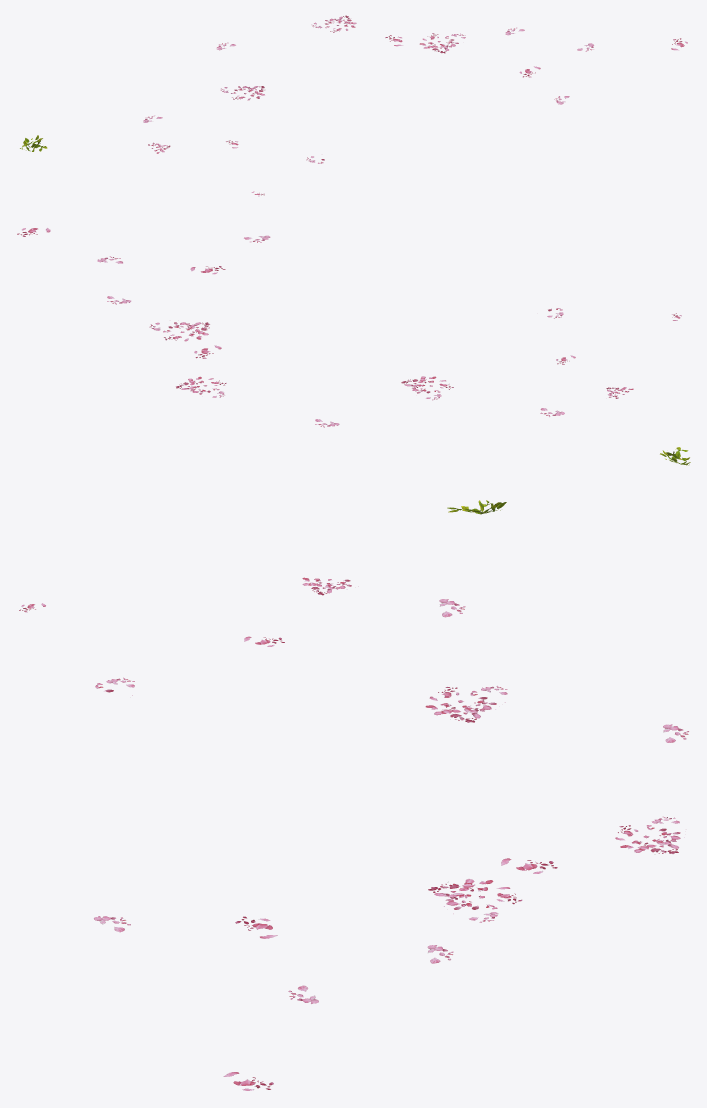
The model's file is 4006_Item_huanban_1.FBX.
The picture shows the model from 3 angles, top to bottom: view 1: azimuth 30°, elevation 25°; view 2: azimuth 150°, elevation 25°; view 3: azimuth 270°, elevation 25°; orthographic projection. The views are drawn at different scales.
Parts seen in each view (by area): view 1: 4006_Item_huanban_1; view 2: 4006_Item_huanban_1; view 3: 4006_Item_huanban_1.
Part boxes in pixels (x1,y1,x2,y2): 4006_Item_huanban_1: (20,15,687,196); 4006_Item_huanban_1: (17,228,690,465); 4006_Item_huanban_1: (19,500,688,1090).
Size of the model in its own units: 78.04 by 1.4 by 37.12.
